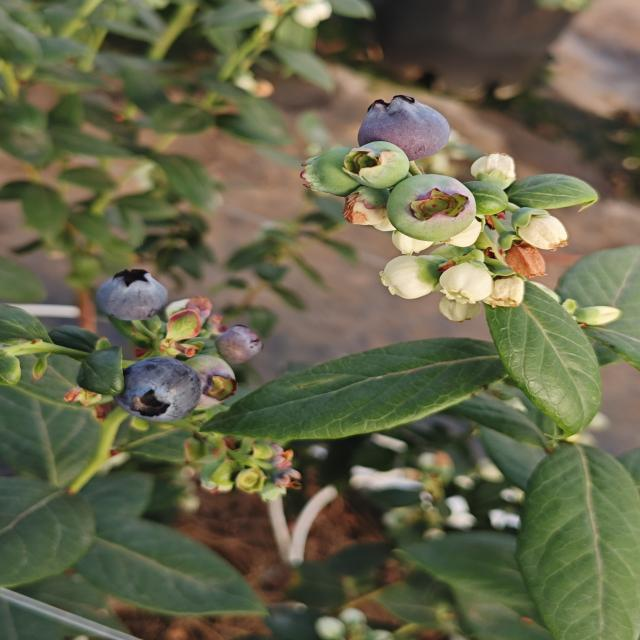ripe: (354, 93, 453, 163), (110, 355, 204, 425), (92, 266, 172, 324)
